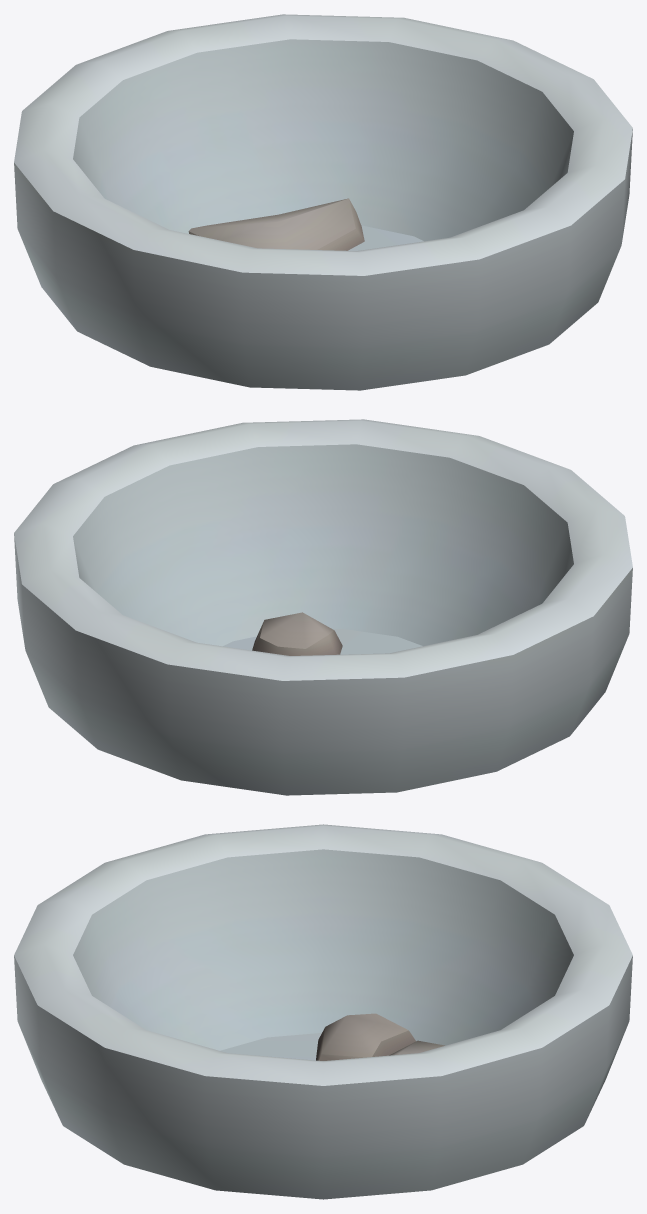
File: bowl-dirty.glb
3 views of the same model, one above another, from view 1: azimuth 30°, elevation 25°; view 2: azimuth 150°, elevation 25°; view 3: azimuth 270°, elevation 25° (orthographic).
Visible parts, largest first — view 1: bowl_dirty; view 2: bowl_dirty; view 3: bowl_dirty.
Part boxes in pixels (x1,y1,x2,y2): bowl_dirty: (14, 14, 632, 390); bowl_dirty: (14, 419, 632, 795); bowl_dirty: (14, 824, 632, 1199).
Bounding box in the file's own units: 0.95 × 0.3 × 0.95.
Materials: 1 (1 with a texture image).
